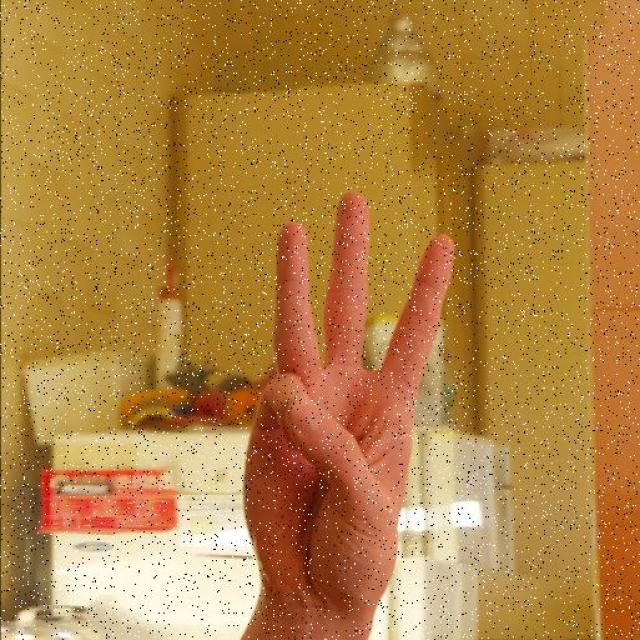W: (237, 182, 458, 618)
